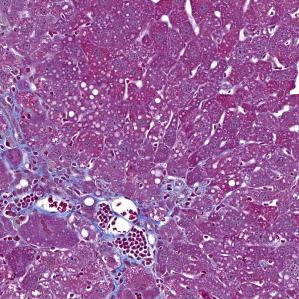fibrosis: (16, 152, 123, 228)
